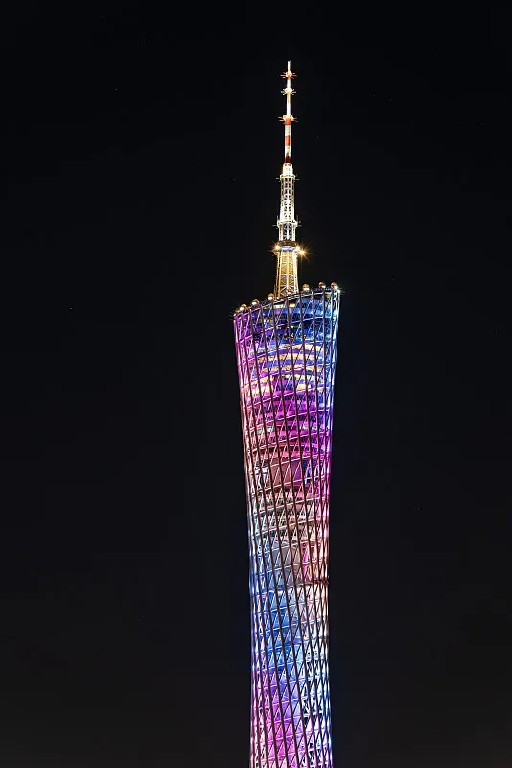Canton: (224, 57, 346, 768)
